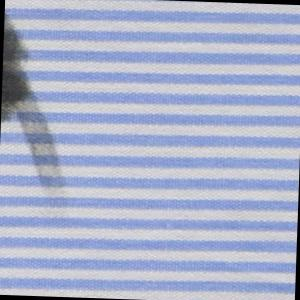Stain: (1, 13, 77, 202)
